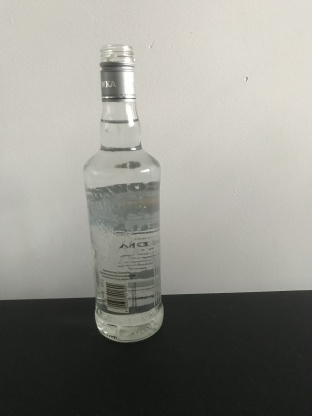nakretka: (98, 44, 137, 102)
